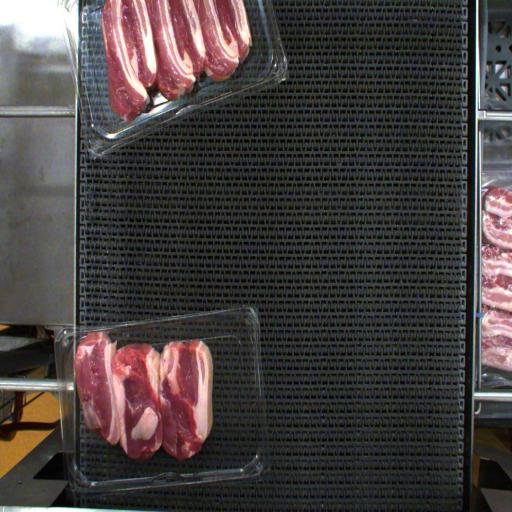packaging-error: (80, 322, 118, 338)
